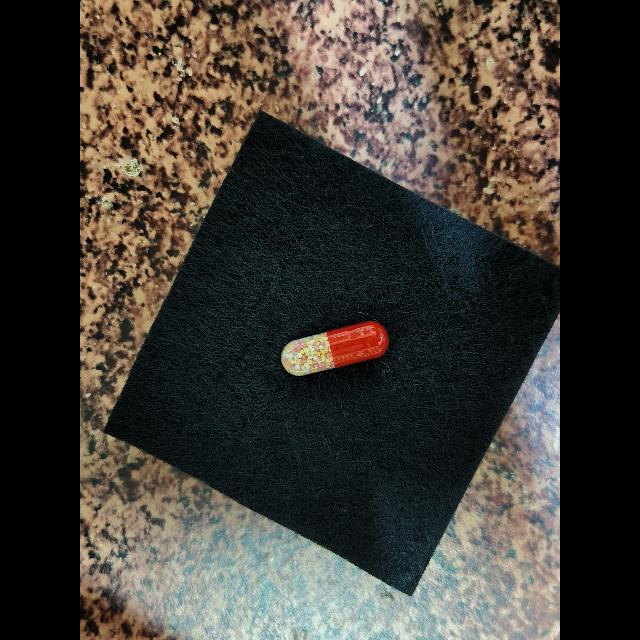Intact Capsule: (281, 321, 389, 376)
